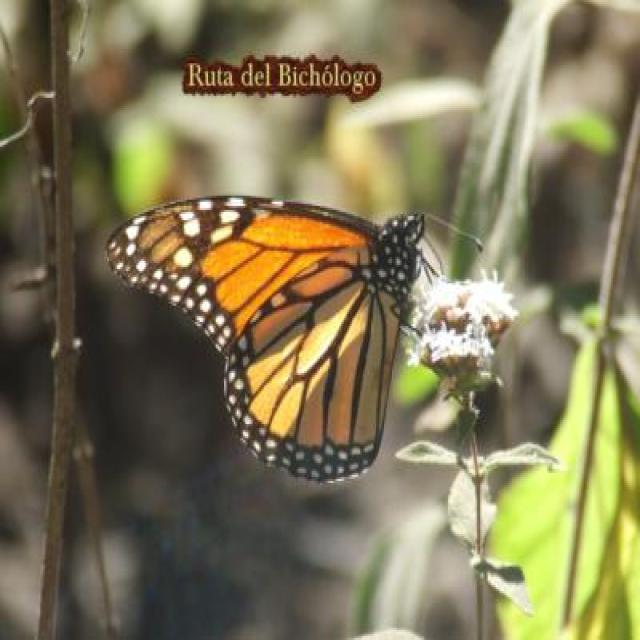antennae: (415, 204, 490, 260)
body: (360, 189, 442, 348)
insect: (107, 185, 490, 488)
legs: (388, 285, 439, 346)
wings: (108, 194, 391, 480)
